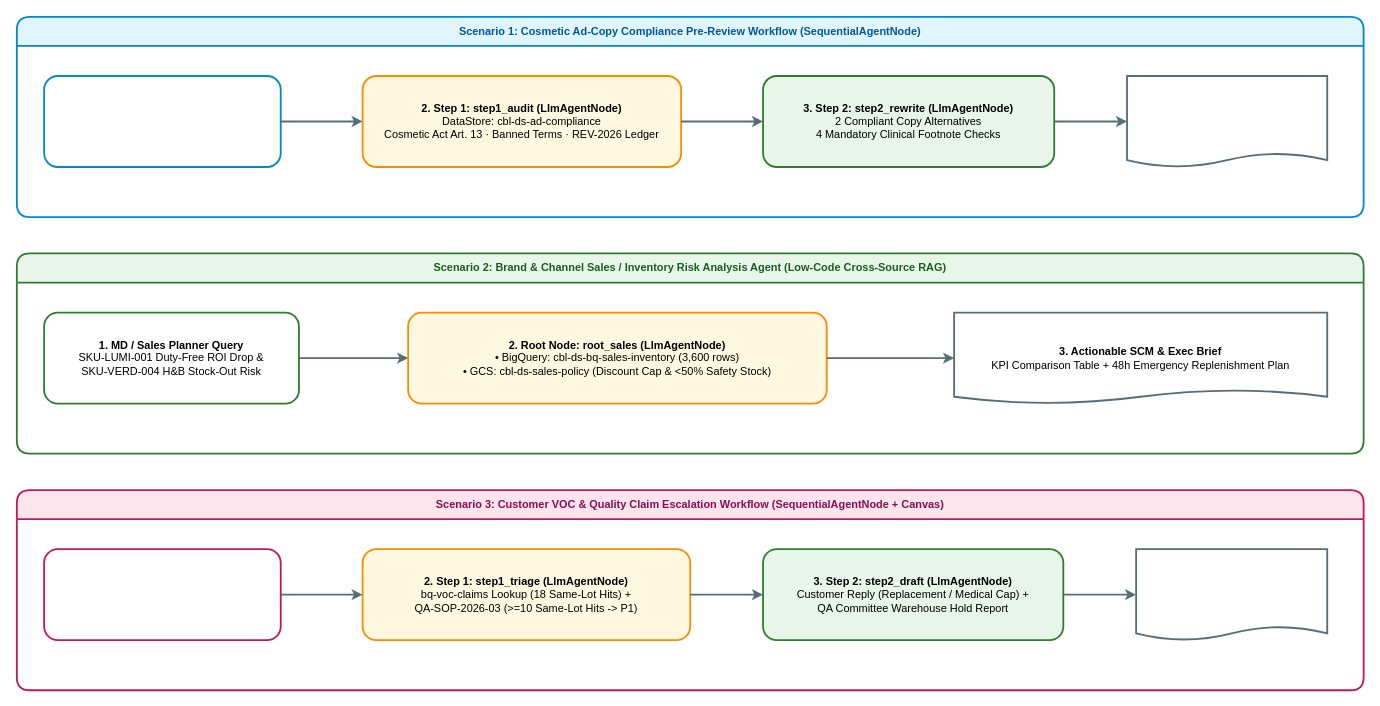
This 1380x706 diagram has some shape labels left out. Here are the shapes that lost their labels. From the top down, the box of each, then its label:
(43, 75, 281, 167): 1. Draft Copy Input Brand · Channel · Product Copy Draft
(1126, 75, 1328, 167): RA Pre-Review Request Pass / Conditional / Reject Report
(43, 548, 281, 641): 1. CS / QA Claim Input SKU-ROOT-001 · LOT-202610-D01 Pump Head Leakage Reported
(1135, 548, 1328, 641): Canvas Local Download Non-GWS .docx / .pdf Export
